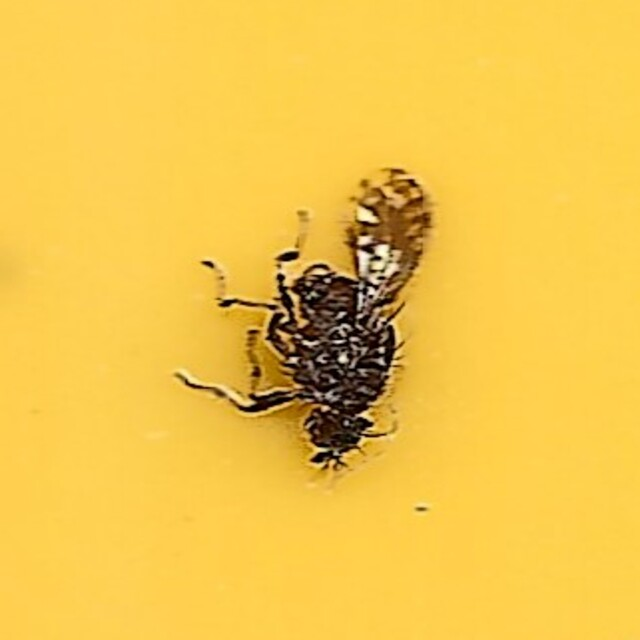Brachycera: (199, 168, 441, 472)
